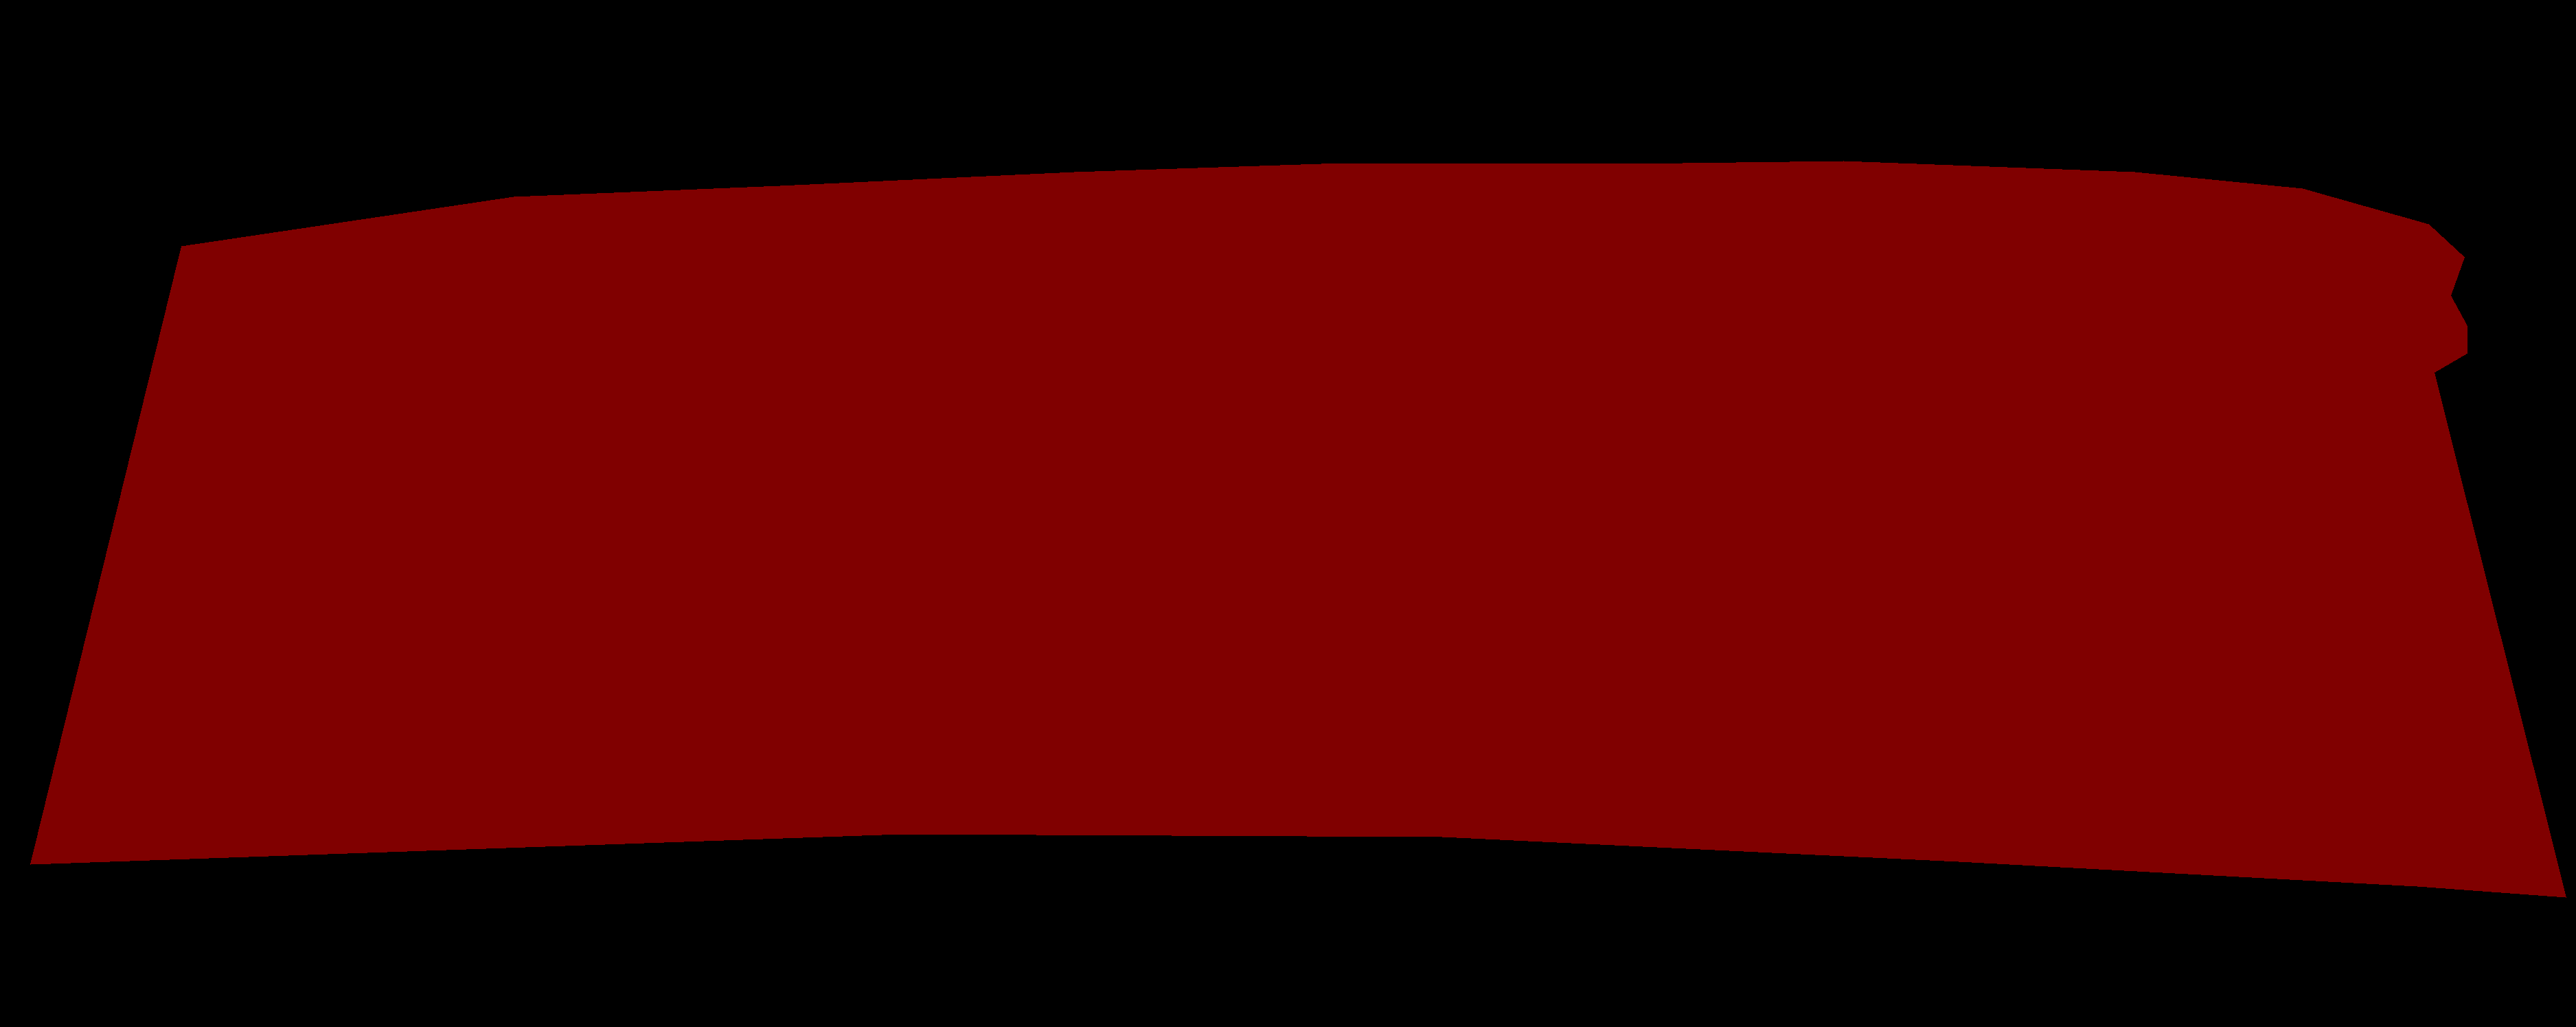sign: (30, 161, 2566, 897)
